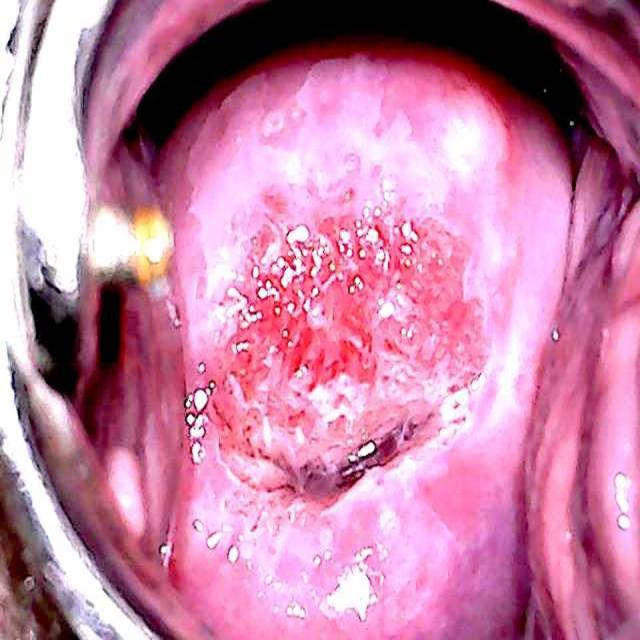cervical_lesion: (200, 210, 501, 540)
